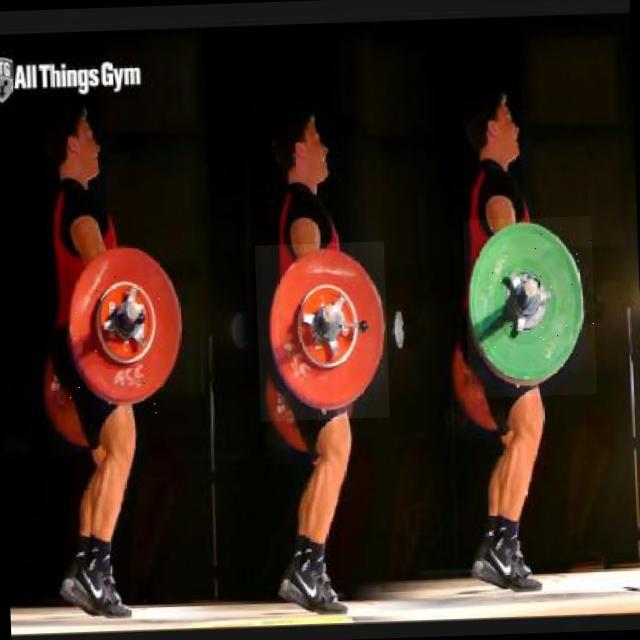barbell: (58, 237, 193, 419), (464, 217, 598, 399), (256, 242, 391, 422)
